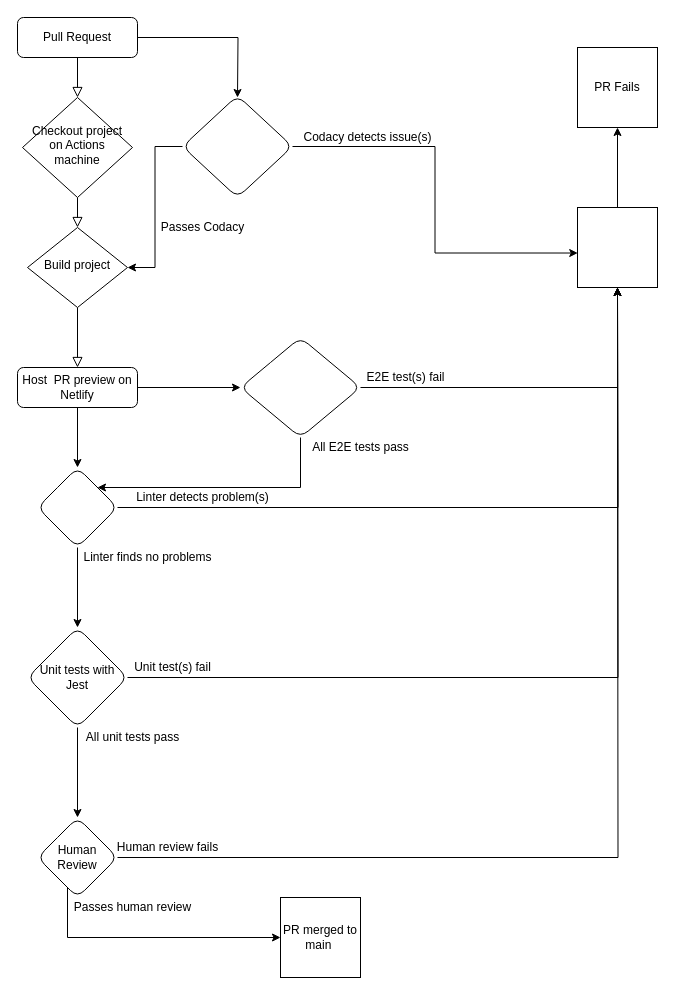
This 675x995 diagram has some shape labels left out. The shapes that lost their labels are listed below. From the top down, each one's centre as x and y in pixels, then its label:
At point 237,146: "Codacy static analysis".
At point 617,247: "Alert team members".
At point 300,387: "E2E tests with Puppeteer".
At point 77,507: "Run linter (ESLint)".
